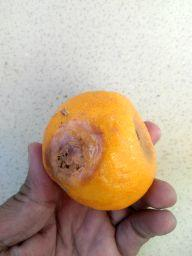Unripe: (45, 92, 155, 211)
